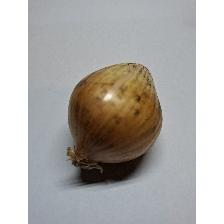Zwiebel: (62, 62, 166, 174)
